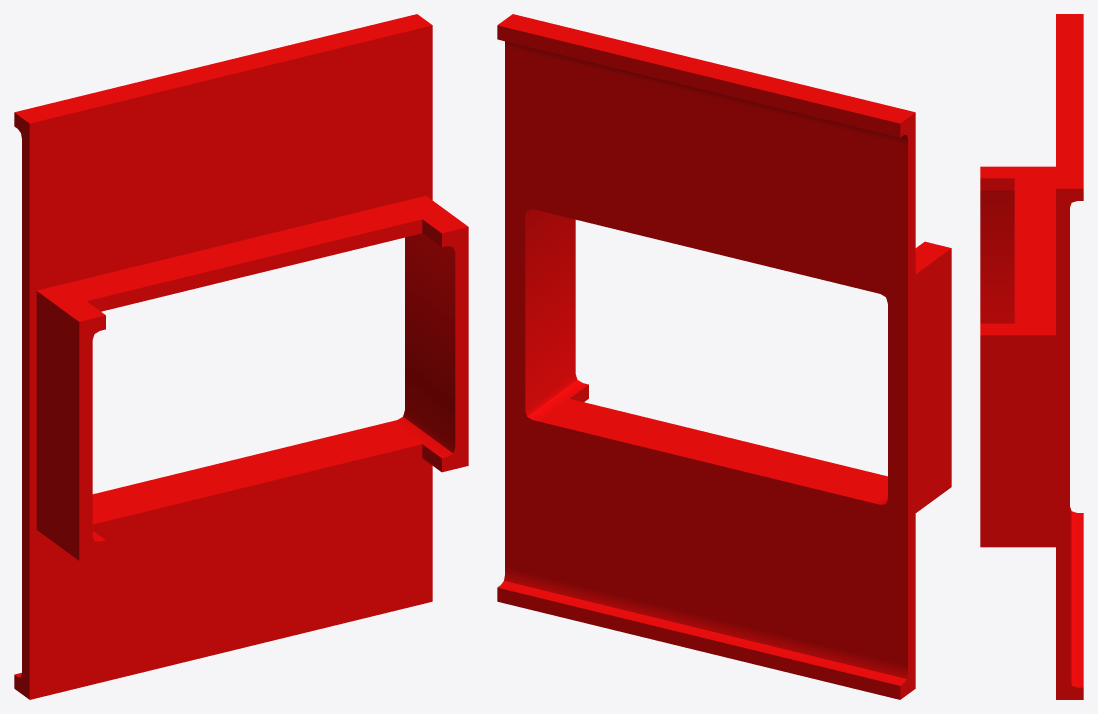
The model's file is SM_Transition-1Mid-3_E.fbx.
The picture shows the model from 3 angles, left to right: view 1: azimuth 30°, elevation 25°; view 2: azimuth 150°, elevation 25°; view 3: azimuth 270°, elevation 25°; orthographic projection. The views are drawn at different scales.
Visible parts, largest first — view 1: SM_Transition-1Mid-3_E; view 2: SM_Transition-1Mid-3_E; view 3: SM_Transition-1Mid-3_E.
Part boxes in pixels (<box>): SM_Transition-1Mid-3_E: <box>14,14,468,699</box>; SM_Transition-1Mid-3_E: <box>497,14,951,699</box>; SM_Transition-1Mid-3_E: <box>980,14,1083,699</box>.
Bounding box in the file's own units: 600 × 150 × 820.
